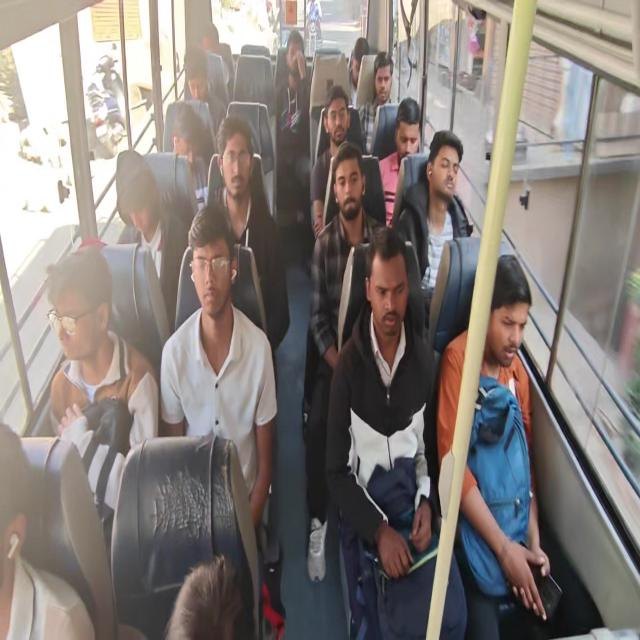person: (40, 24, 553, 638), (325, 226, 468, 638), (436, 253, 551, 638), (159, 203, 278, 543), (302, 140, 386, 582), (46, 243, 159, 553), (0, 422, 96, 639), (208, 117, 290, 350), (395, 130, 473, 322), (115, 148, 187, 344), (310, 85, 356, 239), (164, 552, 245, 639), (275, 29, 310, 229), (378, 96, 421, 228), (172, 102, 208, 212), (183, 46, 226, 136), (357, 51, 395, 152), (201, 23, 232, 96), (348, 36, 370, 108)
